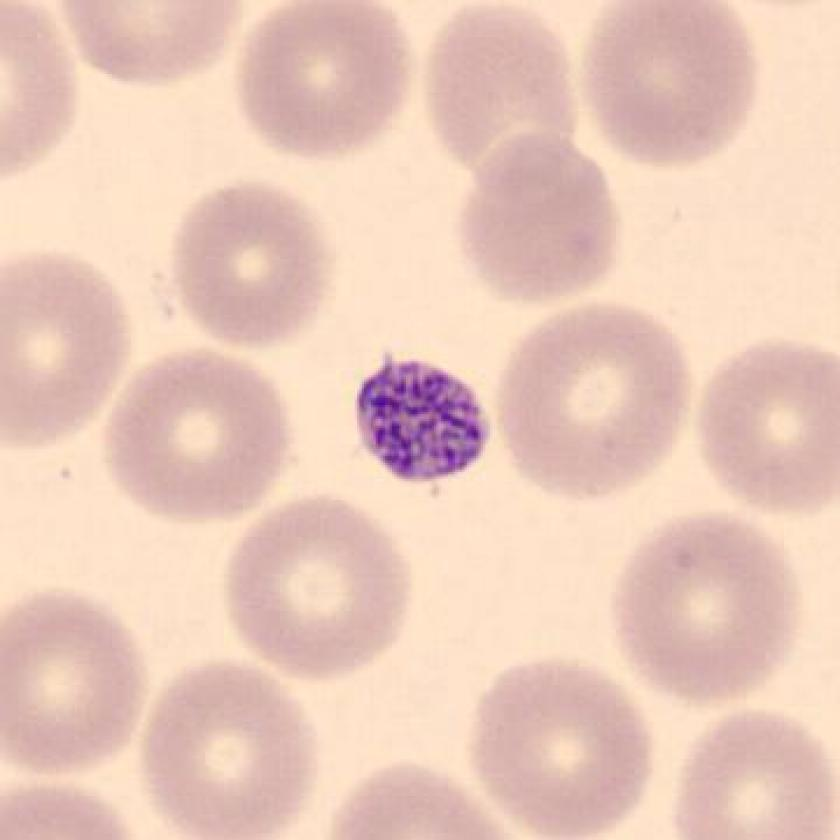platelets: (351, 351, 500, 492)
